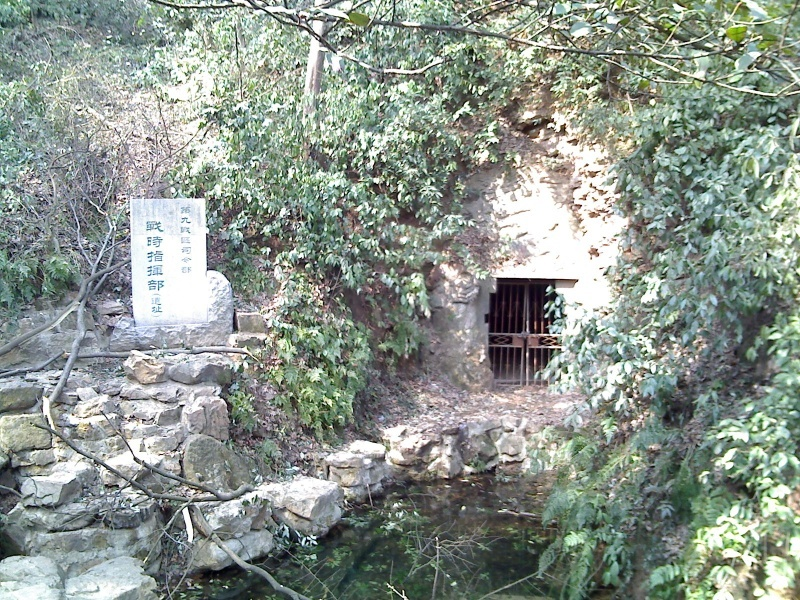text: (145, 221, 160, 318), (181, 206, 192, 275), (161, 221, 165, 318)
